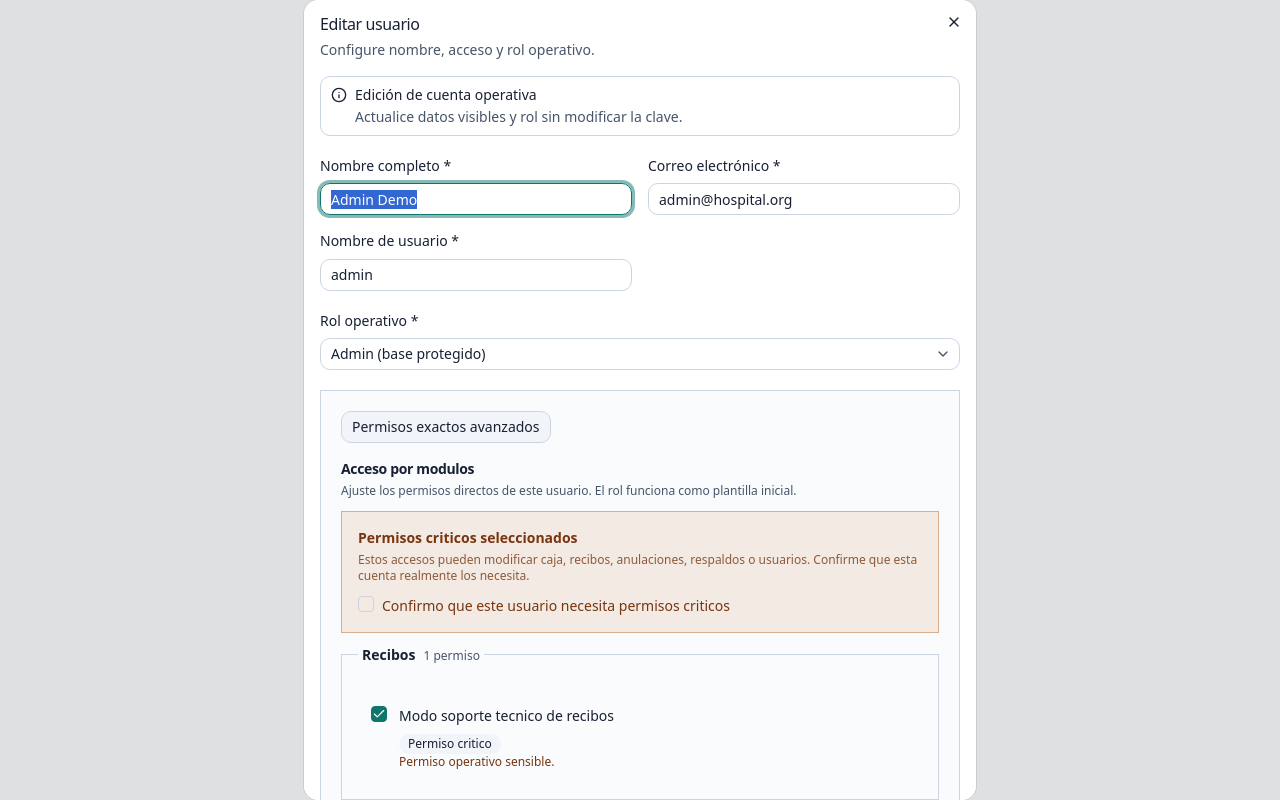
Scenario: UserFormDialog › requires explicit confirmation before saving a user with critical direct permissions
This screenshot has width=1280, height=800.
Click the checkbox named "confirmo que este usuario necesita permisos criticos" below "Permisos criticos seleccionados" at (366, 604), box [358, 596, 374, 612]
(page scrolled)
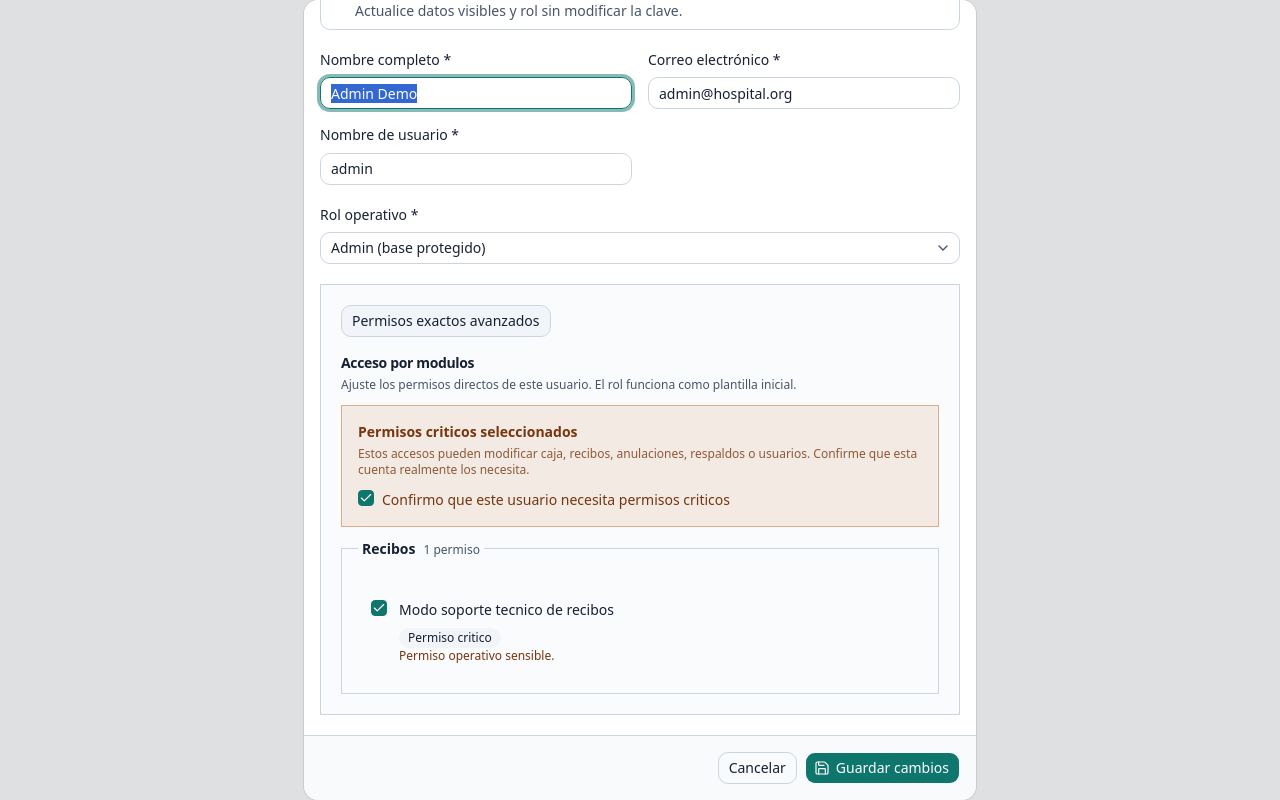
Expected: the button "Guardar cambios" is enabled, [805, 752, 960, 784]
